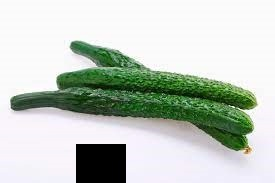cucumber: (72, 43, 255, 106), (9, 91, 251, 133)
